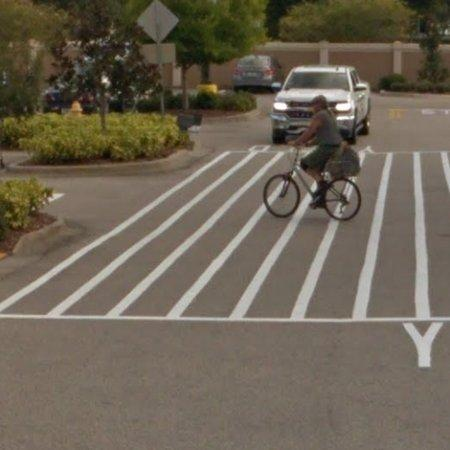bicycles: (264, 148, 314, 217), (325, 178, 360, 220)
